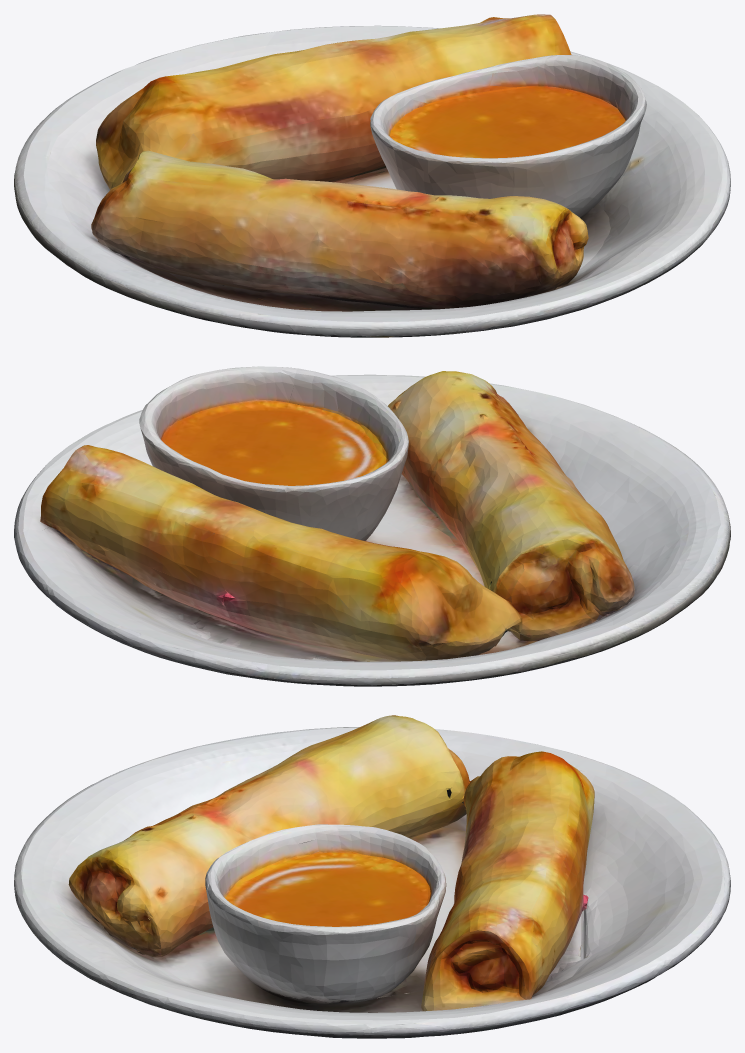
Rendered from spring_roll2-compressed.glb.
The picture shows the model from 3 angles, top to bottom: view 1: azimuth 30°, elevation 25°; view 2: azimuth 150°, elevation 25°; view 3: azimuth 270°, elevation 25°; orthographic projection.
Visible parts, largest first — view 1: world; view 2: world; view 3: world.
Boxes of the visible parts, x1,y1,x2,y2 form: world: [14, 14, 730, 337]; world: [14, 366, 730, 686]; world: [14, 715, 730, 1038].
Size of the model in its own units: 0.25 by 0.0473 by 0.25.
1 material, 1 textured.
